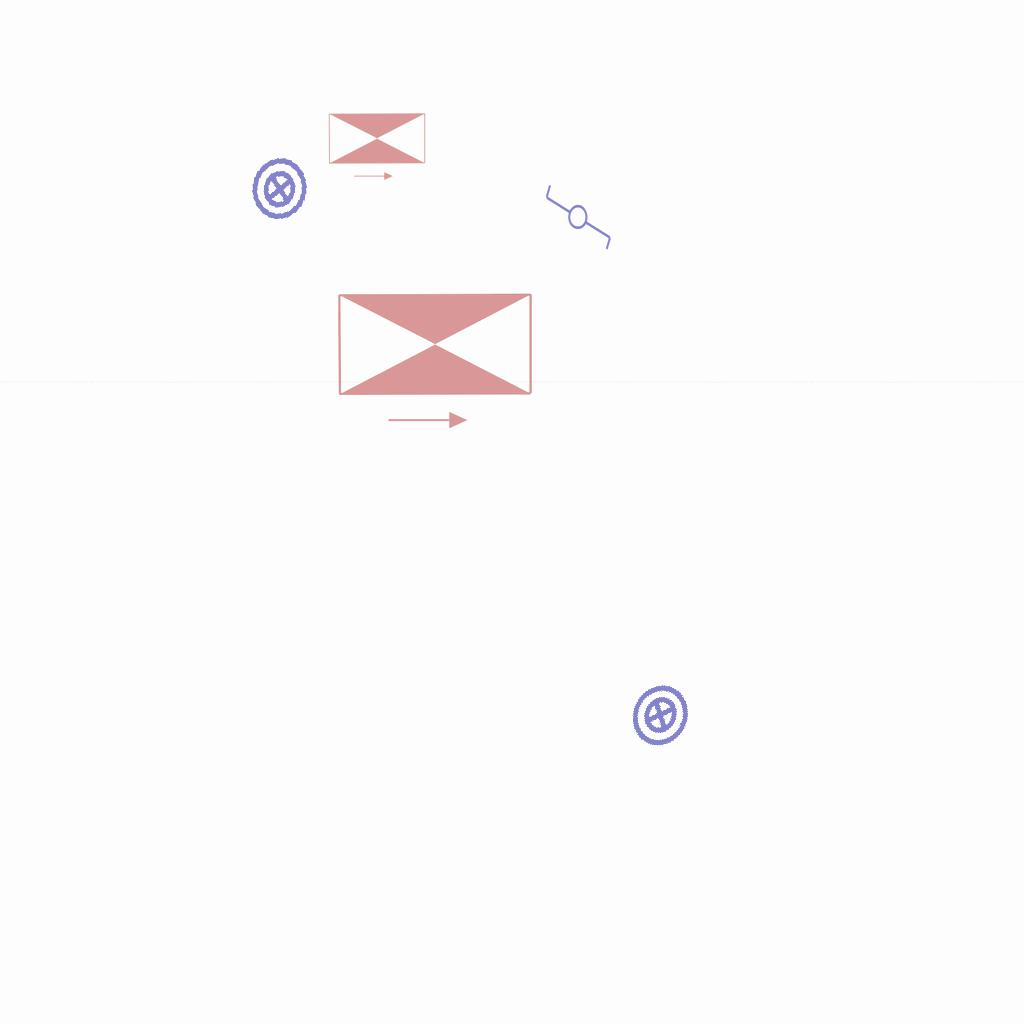Fluchtwegpiktogramm: (331, 287, 539, 434), (325, 110, 429, 183)
Taster_beleuchtet: (616, 671, 704, 759), (242, 151, 318, 227)
Wechselschalter: (543, 174, 615, 252)
